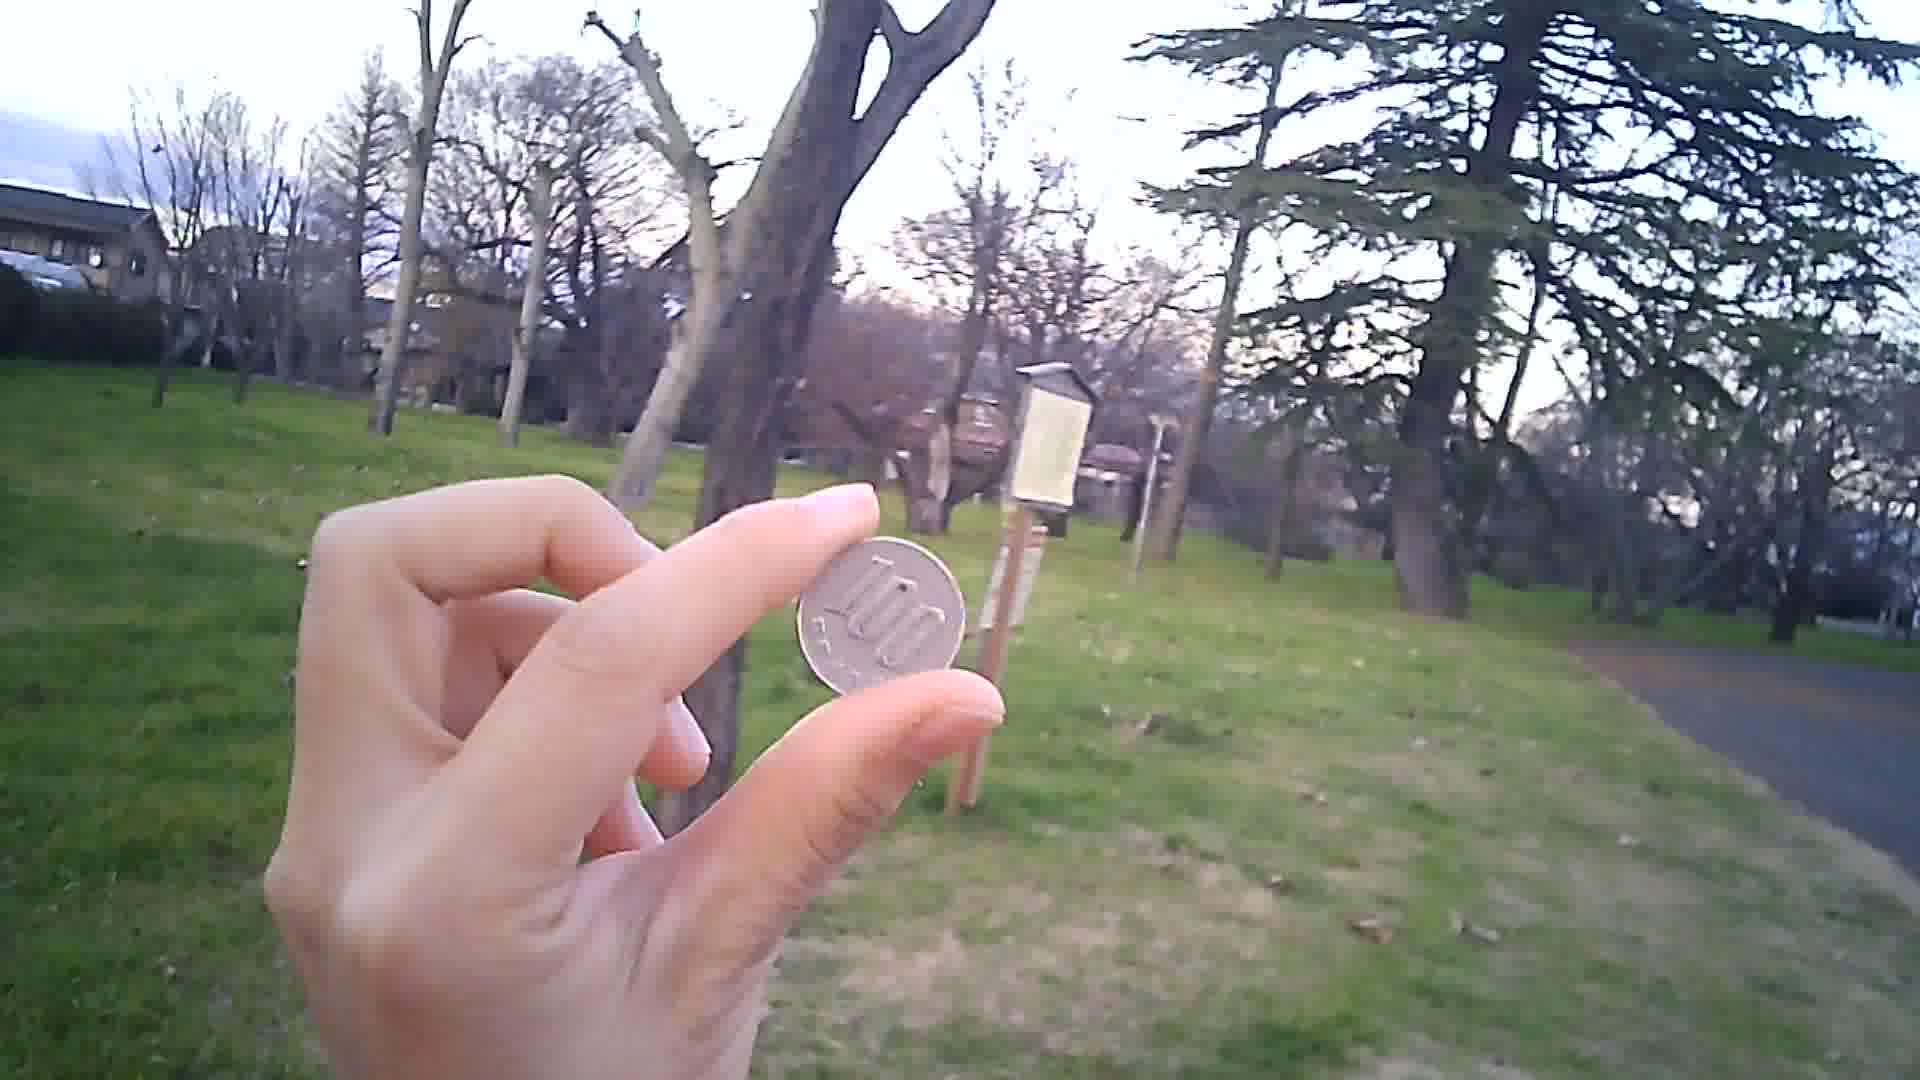100 Yen: (793, 535, 965, 705)
